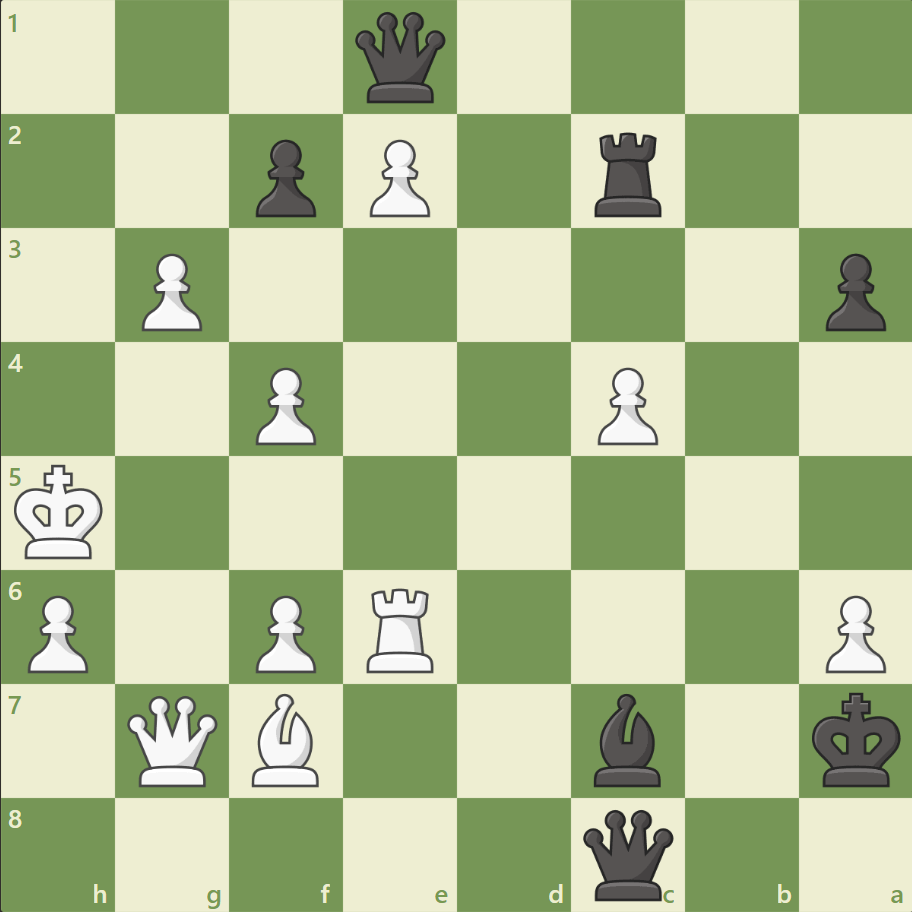B: (244, 687, 328, 790)
K: (11, 458, 111, 566)
P: (247, 586, 322, 677), (20, 586, 95, 677), (247, 359, 322, 450), (133, 246, 208, 337), (815, 586, 889, 677), (588, 359, 662, 450), (361, 132, 435, 223)
Q: (124, 690, 223, 789)
R: (360, 579, 442, 676)
b: (585, 687, 669, 790)
k: (806, 685, 906, 793)
p: (247, 132, 322, 223), (815, 246, 889, 337)
q: (578, 804, 677, 903), (351, 9, 450, 108)
r: (587, 125, 670, 222)
